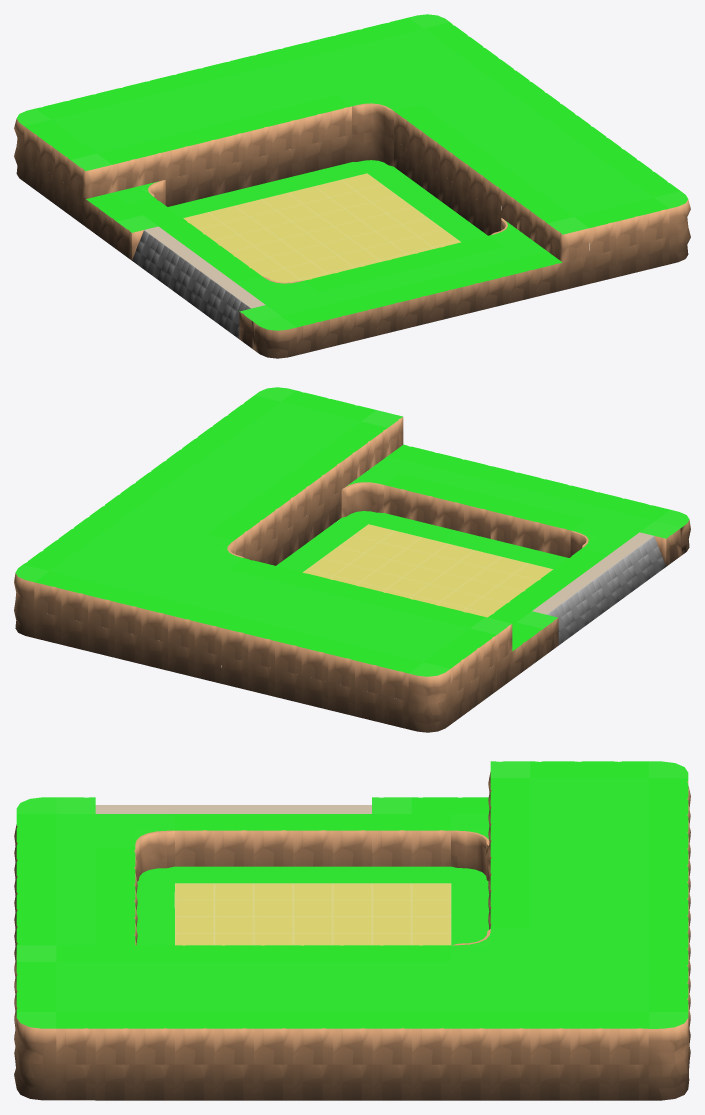
Rendered from Environment_Platform_Level1.fbx.
The picture shows the model from 3 angles, top to bottom: view 1: azimuth 30°, elevation 25°; view 2: azimuth 150°, elevation 25°; view 3: azimuth 270°, elevation 25°; orthographic projection. The views are drawn at different scales.
Parts seen in each view (by area): view 1: Env Level 1; view 2: Env Level 1; view 3: Env Level 1.
Part boxes in pixels (x1,y1,x2,y2): Env Level 1: (14,14,690,358); Env Level 1: (14,387,690,732); Env Level 1: (14,761,690,1100).
Size of the model in its own units: 645 by 80.31 by 685.
2 materials, 2 textured.
